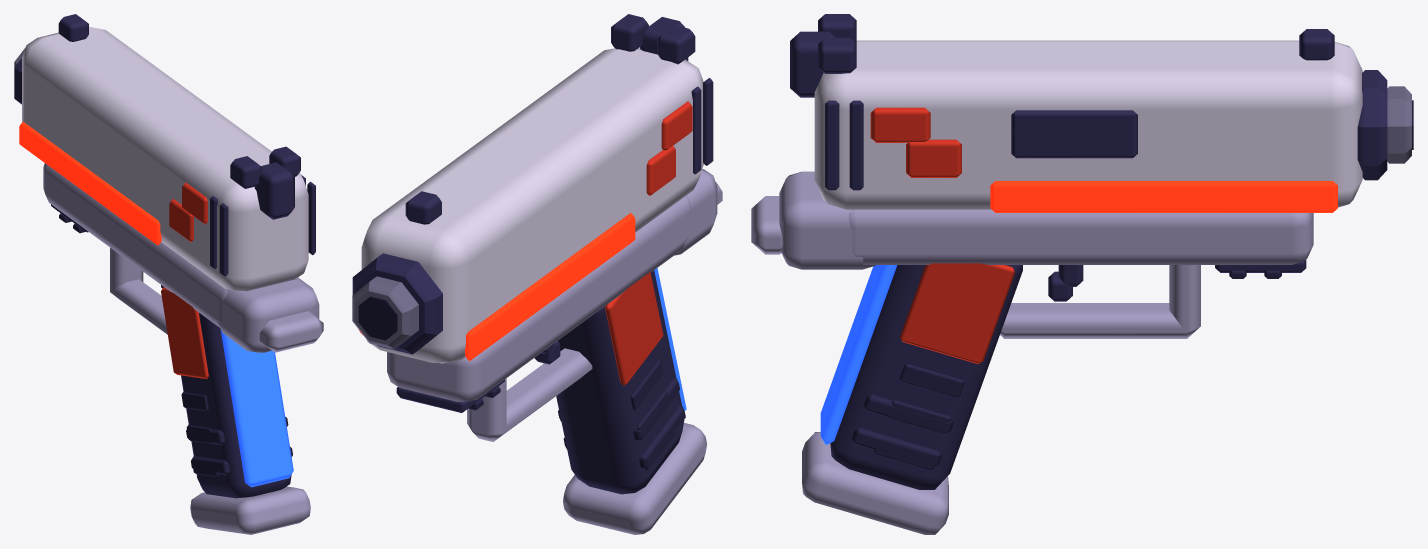
Rendered from pistol.glb.
3 views of the same model, side by side, from view 1: azimuth 30°, elevation 25°; view 2: azimuth 150°, elevation 25°; view 3: azimuth 270°, elevation 25° (orthographic). The views are drawn at different scales.
Parts seen in each view (by area): view 1: part.slide, item.pistol.body, part.mag; view 2: part.slide, item.pistol.body, part.mag; view 3: part.slide, item.pistol.body, part.mag.
Boxes of the visible parts, bbox=[...] form: part.slide: bbox=[19, 14, 315, 291]; item.pistol.body: bbox=[14, 47, 323, 498]; part.mag: bbox=[190, 486, 310, 534]; part.slide: bbox=[359, 14, 713, 363]; item.pistol.body: bbox=[352, 17, 722, 494]; part.mag: bbox=[563, 423, 706, 534]; part.slide: bbox=[814, 14, 1362, 212]; item.pistol.body: bbox=[751, 31, 1413, 489]; part.mag: bbox=[802, 432, 948, 534].
Size of the model in its own units: 0.125 by 0.4806 by 0.5891.
